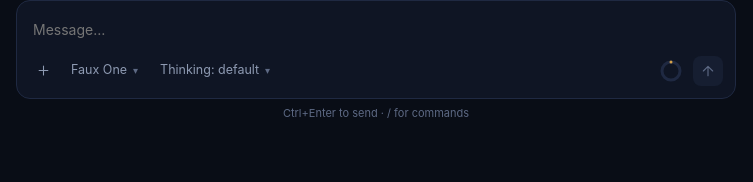
Test: Composer › slash commands (Task 7) › selecting a skill from the menu inserts `/skill:greet ` (trailing space even with no argsHint)
The image size is (753, 182).
Type "/skill:g" into the text box with placeholder "Message…" at (376, 30), box [29, 13, 723, 47]
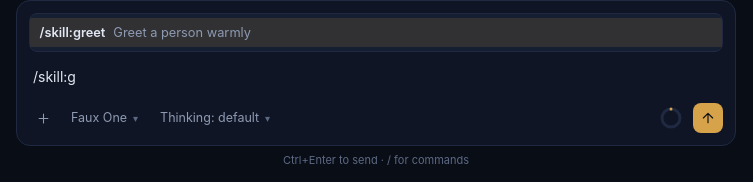
Click the option "/skill:greet Greet a person warmly" at (75, 32), box [30, 18, 722, 47]
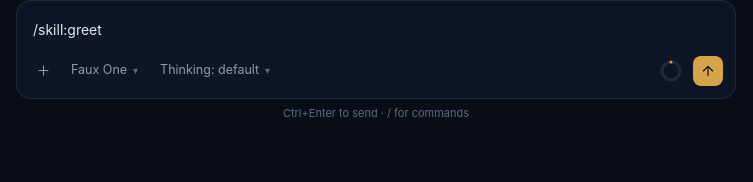
Expected: the text box holds "/skill:greet ", [29, 13, 723, 47]
